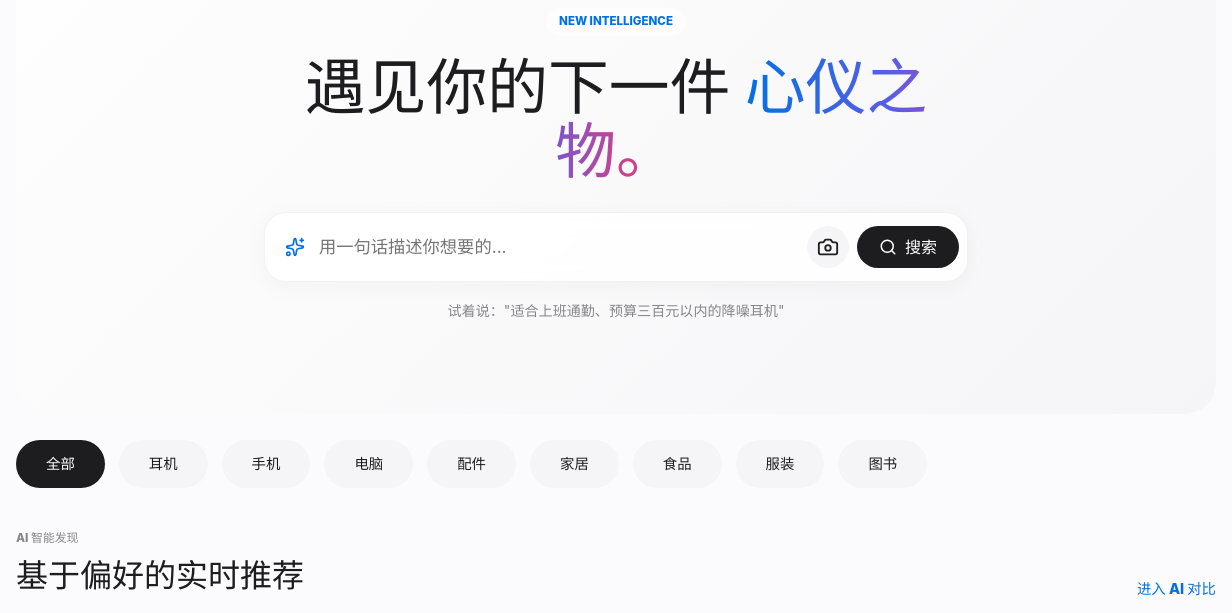
Test: ShoppingView › shows empty and error states without crashing when data is missing or search fails
Type "坏查询" into the field named "AI 搜索" at (556, 247), box [313, 221, 799, 272]
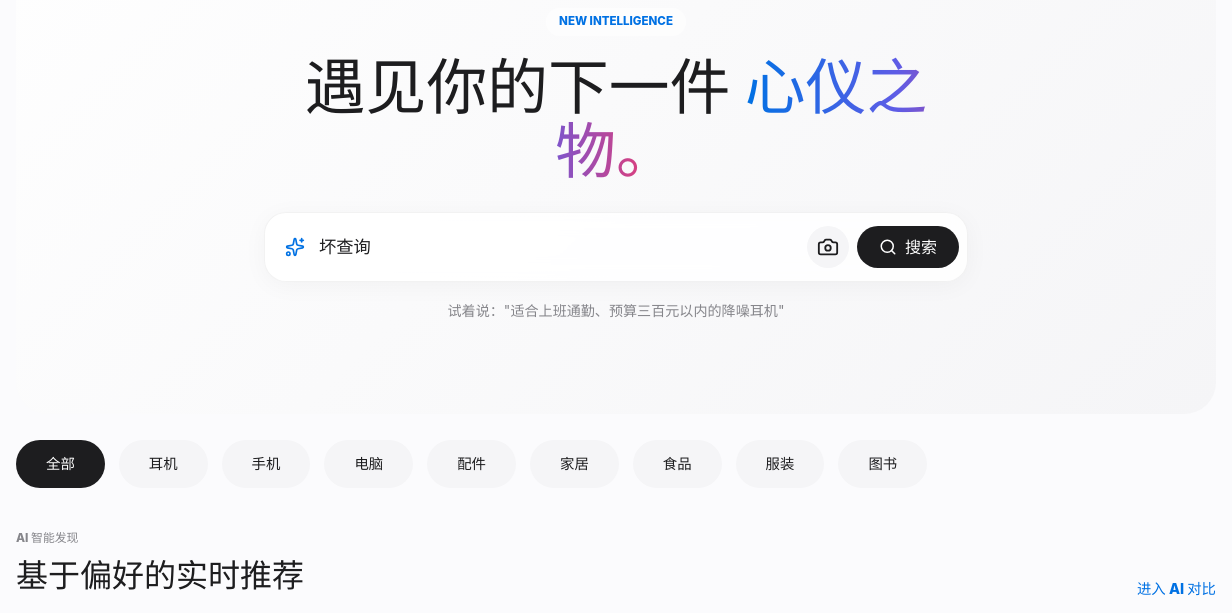
Submit the form with class "ai-search-box", box [264, 212, 968, 282]
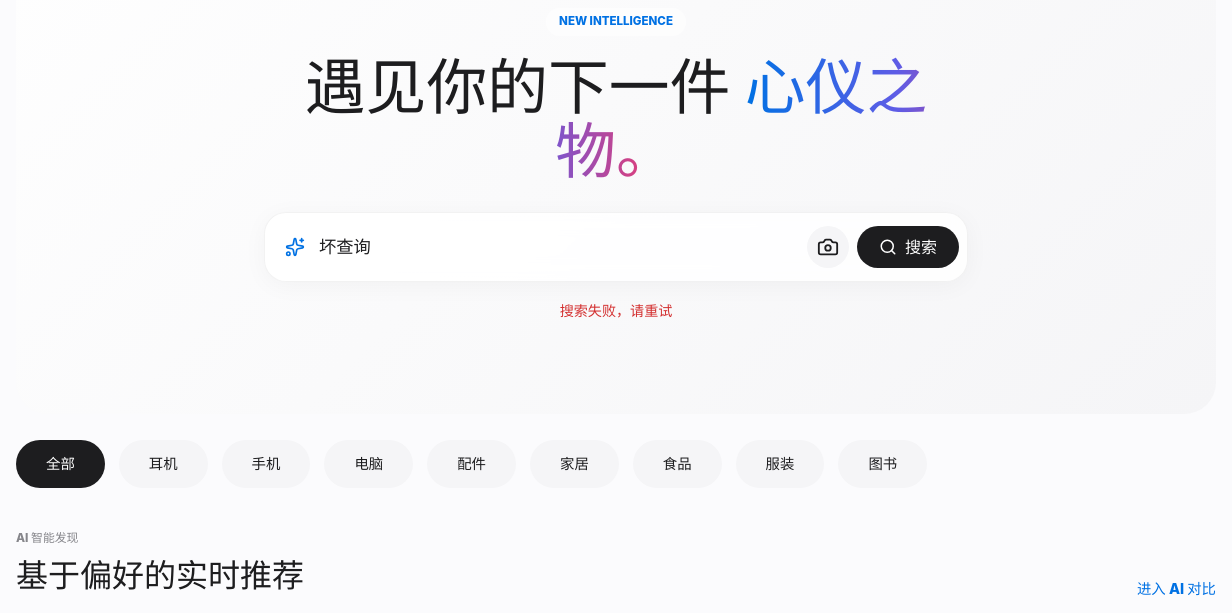
Check: the text "搜索失败，请重试" is shown, box [560, 302, 672, 318]
